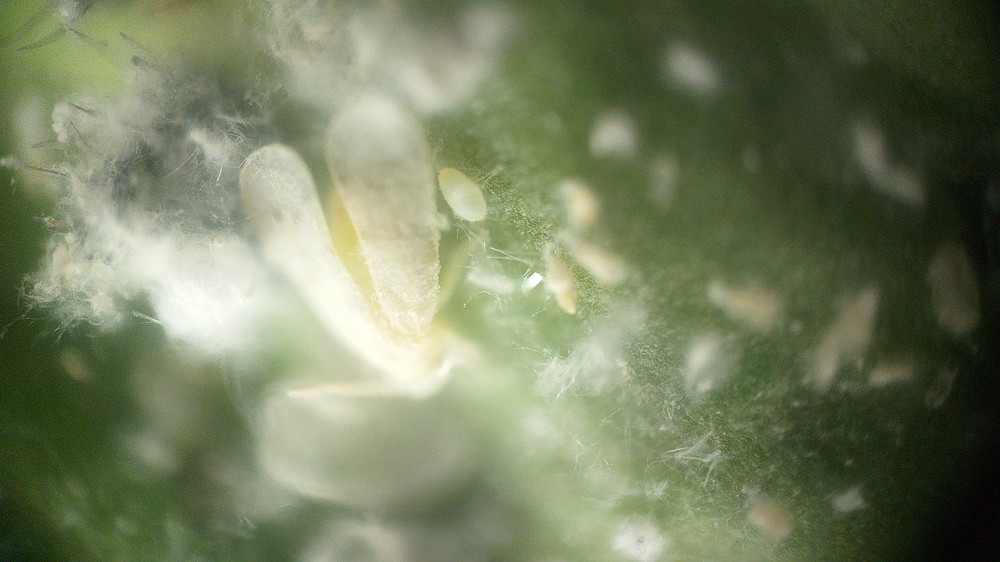Mosca Blanca: (211, 99, 534, 438)
